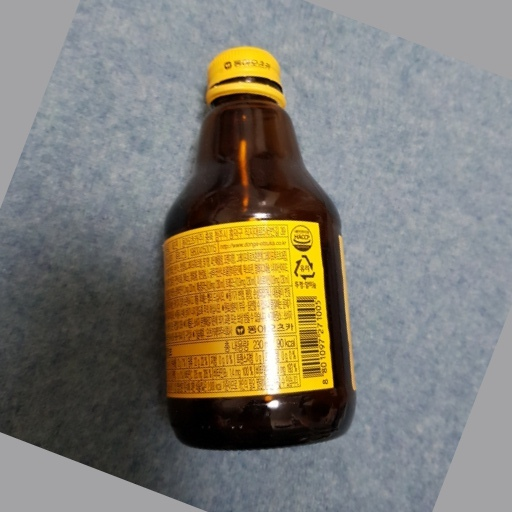Glass_3: (150, 47, 358, 453)
